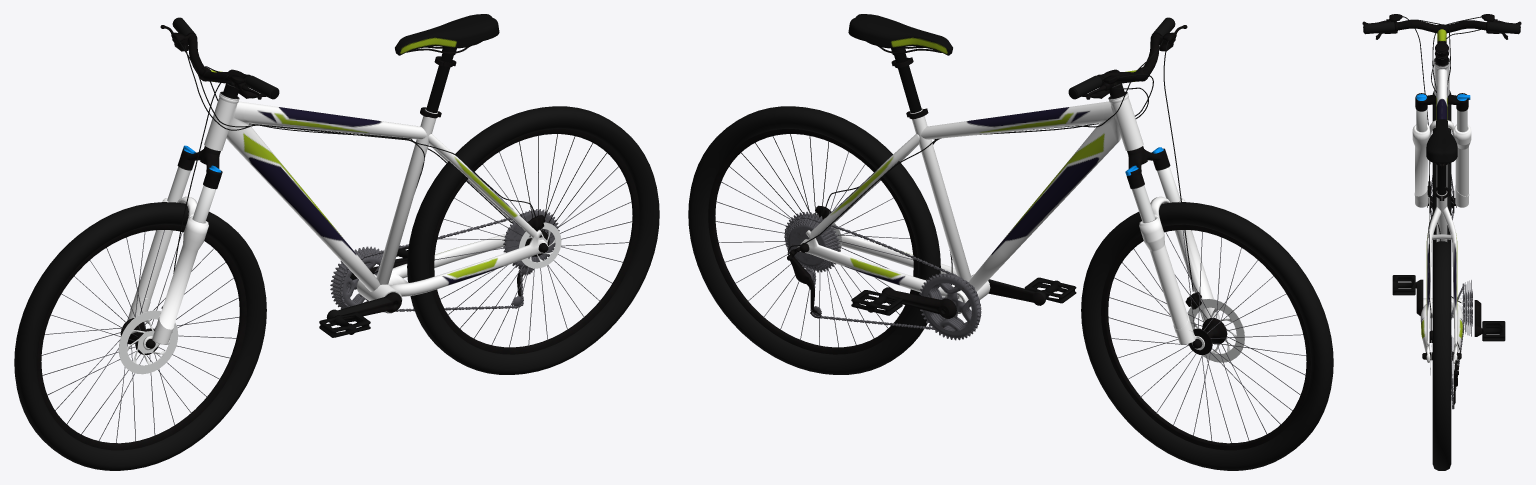
File: bicycle.glb
3 views of the same model, side by side, from view 1: azimuth 30°, elevation 25°; view 2: azimuth 150°, elevation 25°; view 3: azimuth 270°, elevation 25° (orthographic). The views are drawn at different scales.
Visible parts, largest first — view 1: MongooseTyax_2; view 2: MongooseTyax_2; view 3: MongooseTyax_2.
Boxes of the visible parts, bbox=[...] form: MongooseTyax_2: bbox=[14, 14, 659, 470]; MongooseTyax_2: bbox=[688, 14, 1333, 470]; MongooseTyax_2: bbox=[1362, 14, 1521, 470].
Bounding box in the file's own units: 230 × 136 × 61.69.
1 material, 1 textured.
